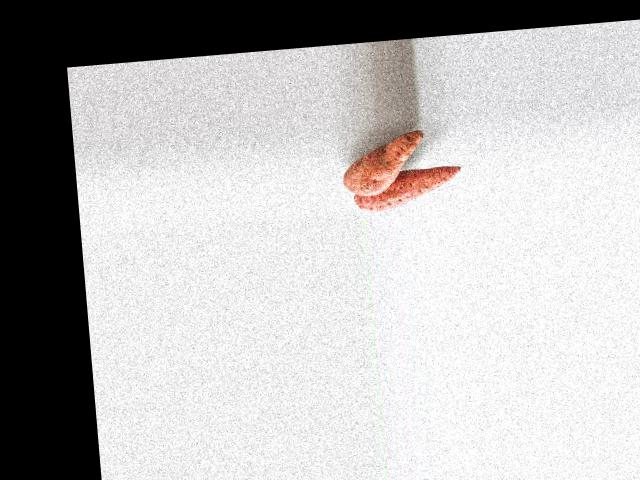sweet_potato: (352, 165, 456, 211)
